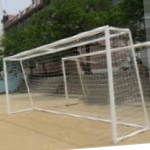goals: (2, 24, 150, 142)
